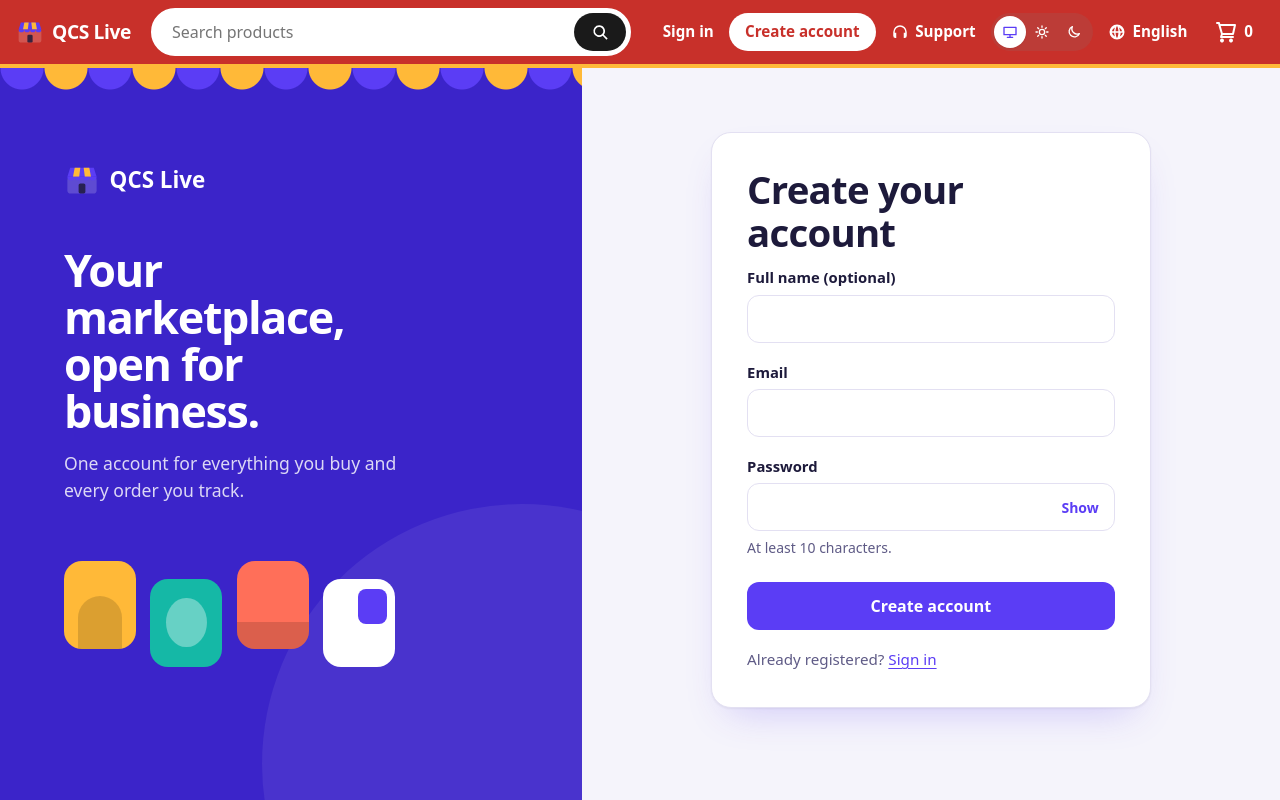
Test: registration › skips the email step when the server says verification is not required
Step 1. Type "jane@example.com" into the field labelled "Email" → (931, 413), box top-left (747, 389), bottom-right (1115, 437)
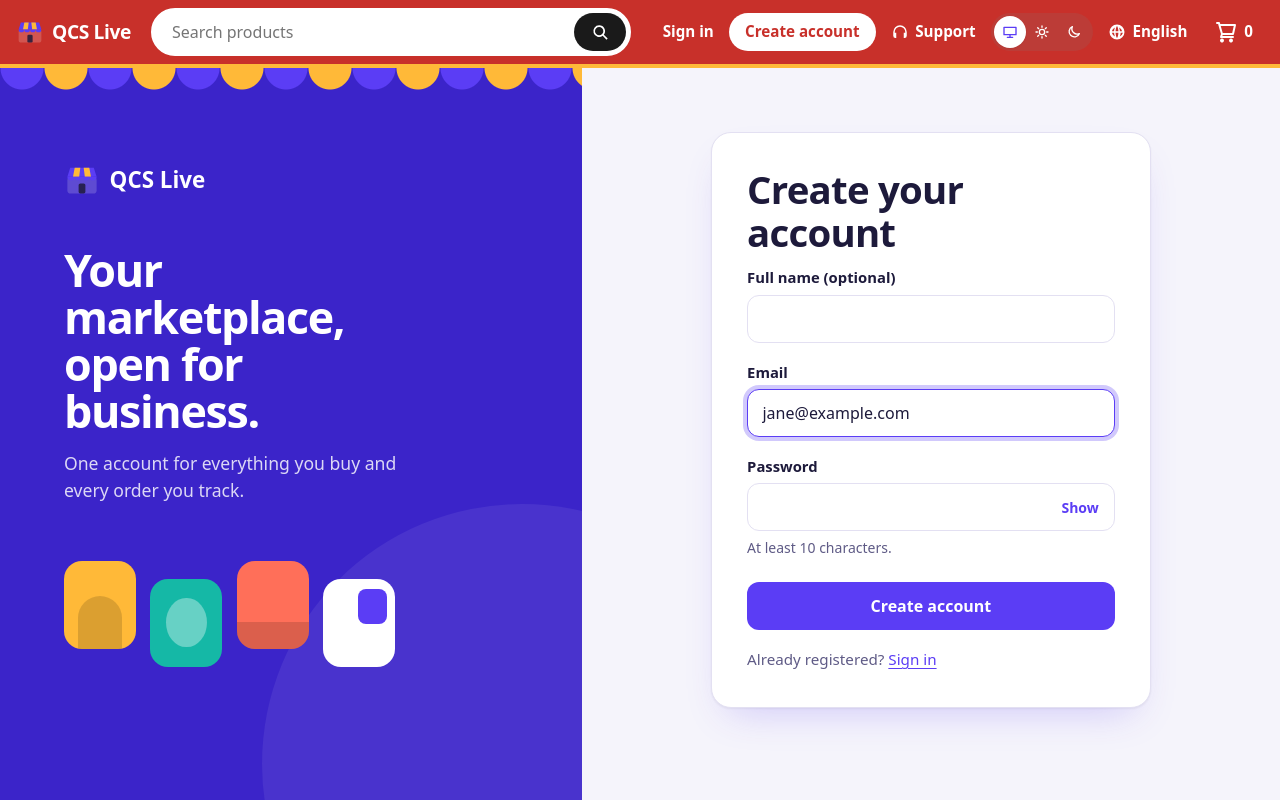
Step 2. Type "a-reasonably-long-passphrase" into the password field labelled "Password" → (931, 507), box top-left (747, 483), bottom-right (1115, 531)
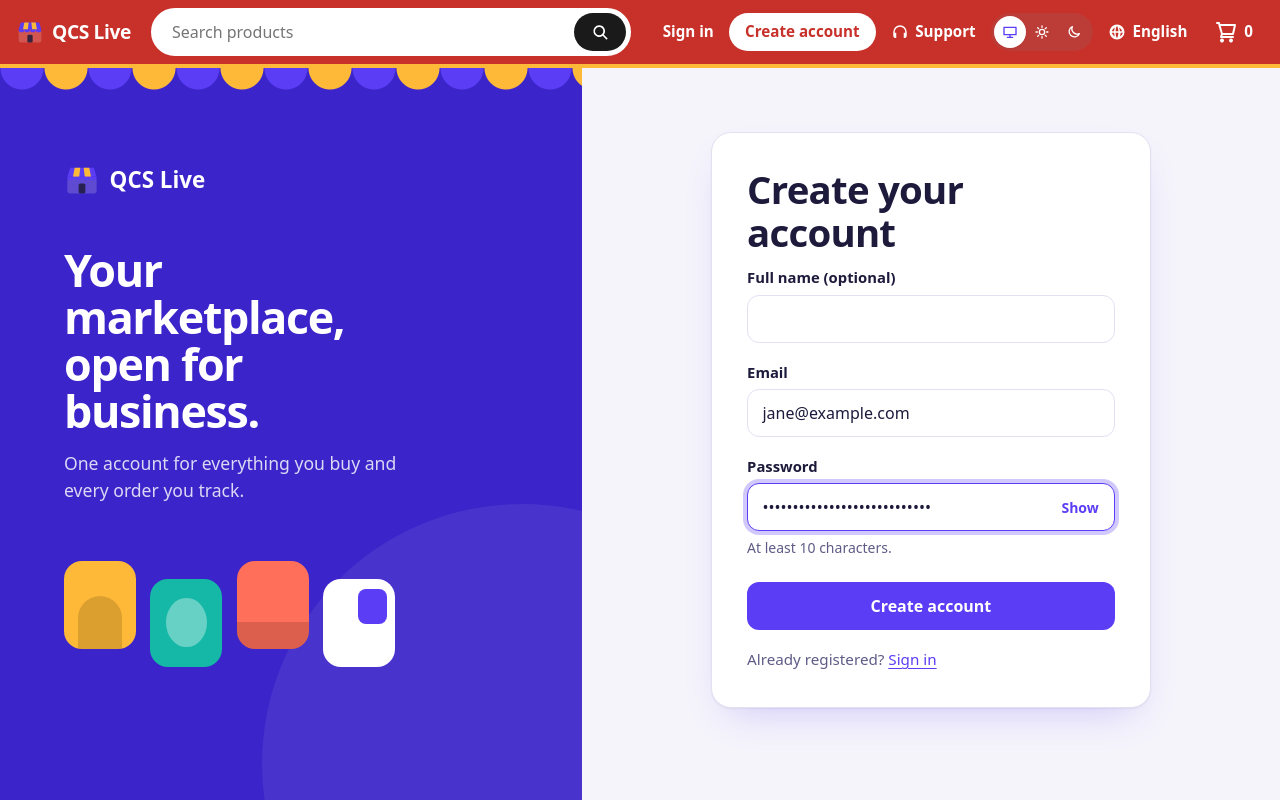
Step 3. Click the button "Create account" → (931, 606), box top-left (747, 582), bottom-right (1115, 630)
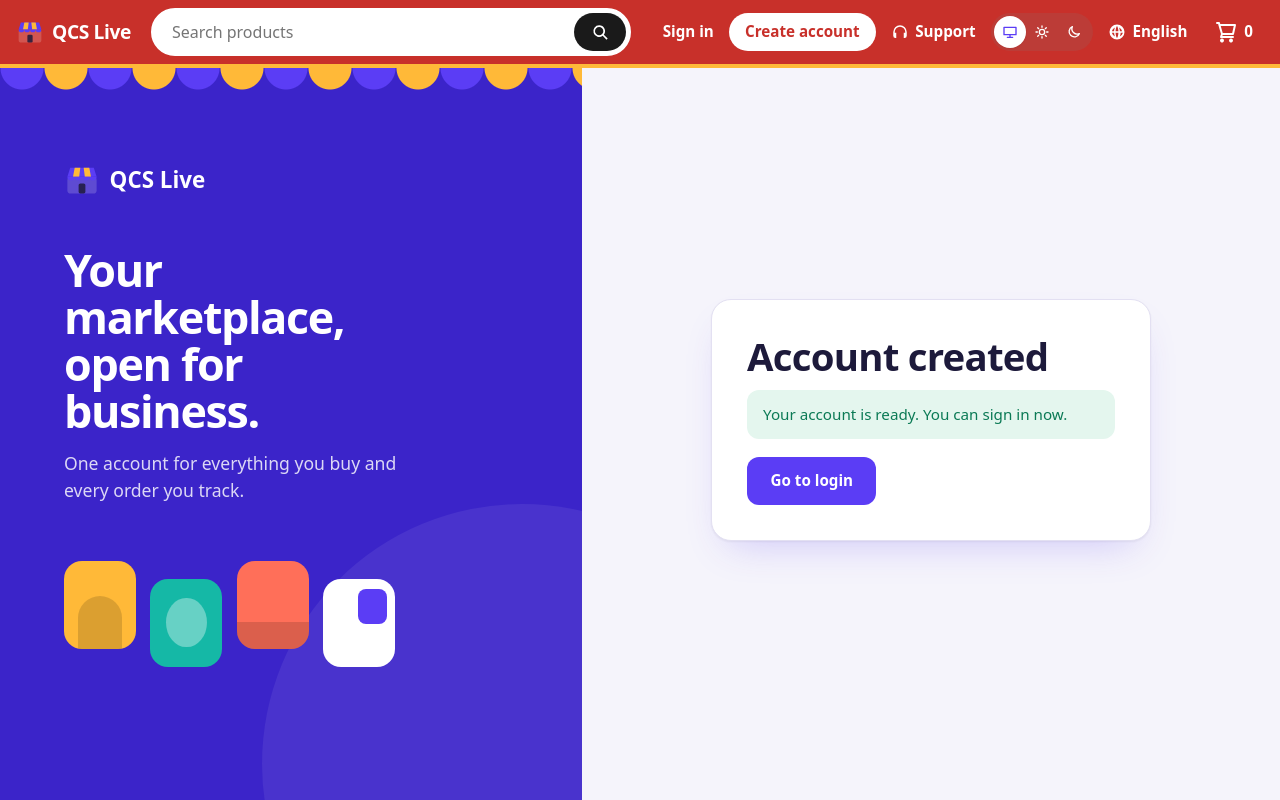
Result: the heading "Account created" is shown at top-left (747, 330), bottom-right (1048, 382)
